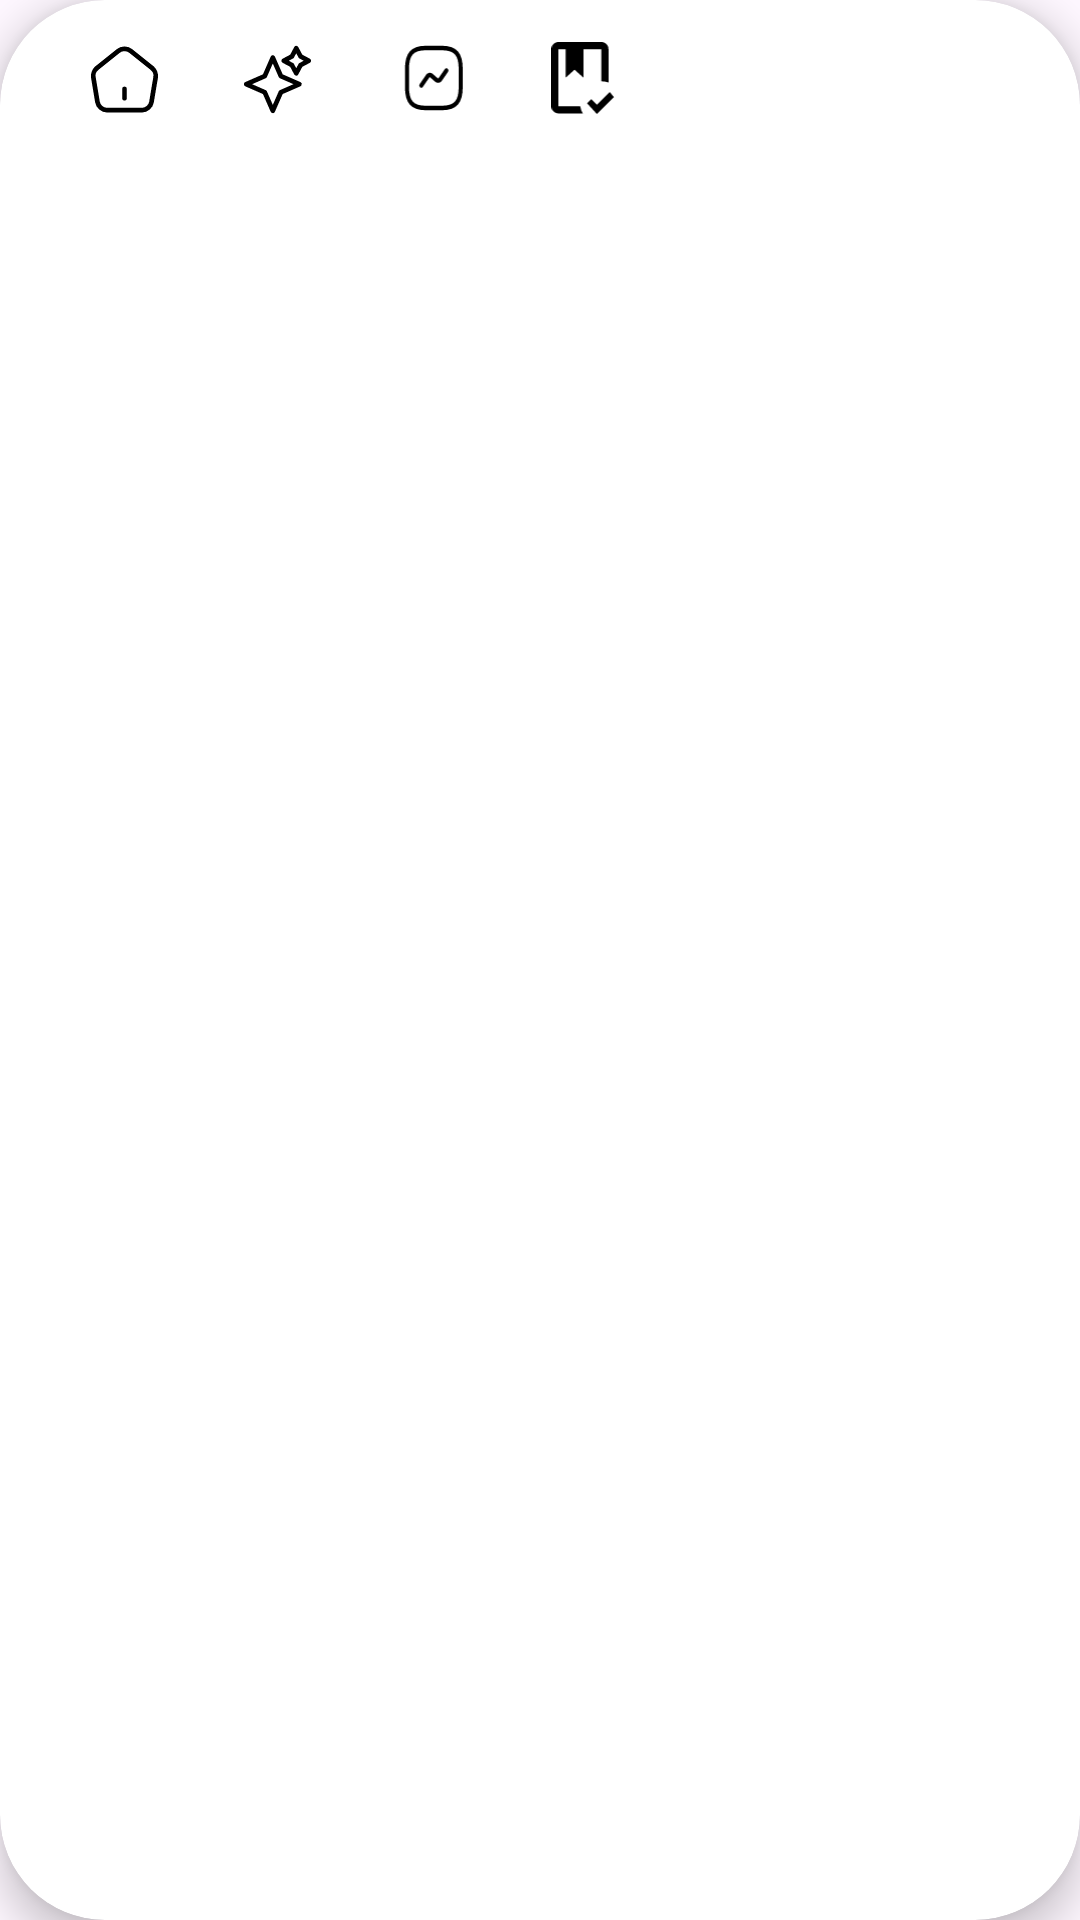

Screen size 1080×1920. Icon name, then its center in pixels as (x,y):
edukasi: (582,78)
home: (124,79)
statisktik: (433,78)
